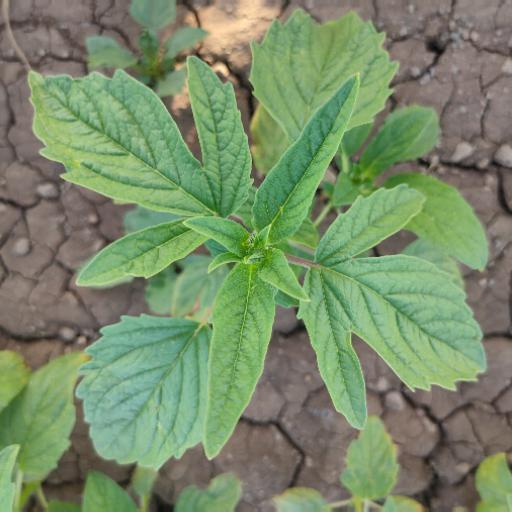crop: (30, 26, 487, 464)
